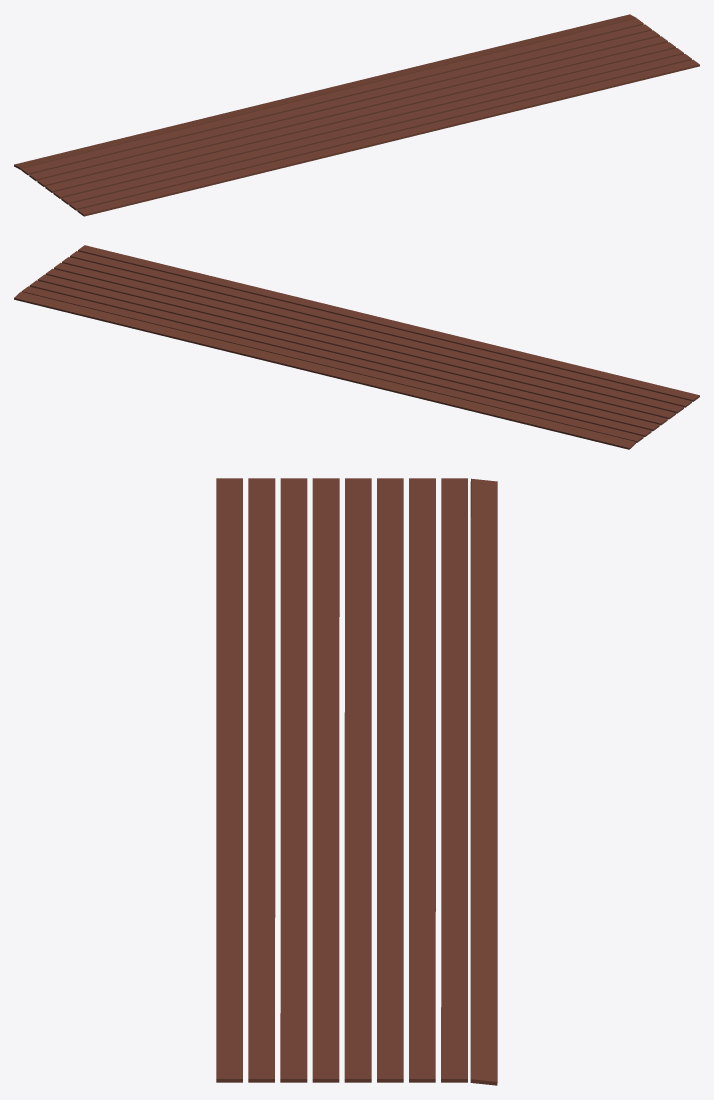
The model's file is landing_floor.fbx.
3 renders of one model, top to bottom at view 1: azimuth 30°, elevation 25°; view 2: azimuth 150°, elevation 25°; view 3: azimuth 270°, elevation 25°, orthographic. The views are drawn at different scales.
Visible parts, largest first — view 1: pier; view 2: pier; view 3: pier.
Boxes of the visible parts, box(x1,y1,x2,y2) form: pier: box(14, 14, 699, 216); pier: box(14, 245, 699, 449); pier: box(216, 478, 497, 1085).
Bounding box in the file's own units: 987 × 4.96 × 195.
